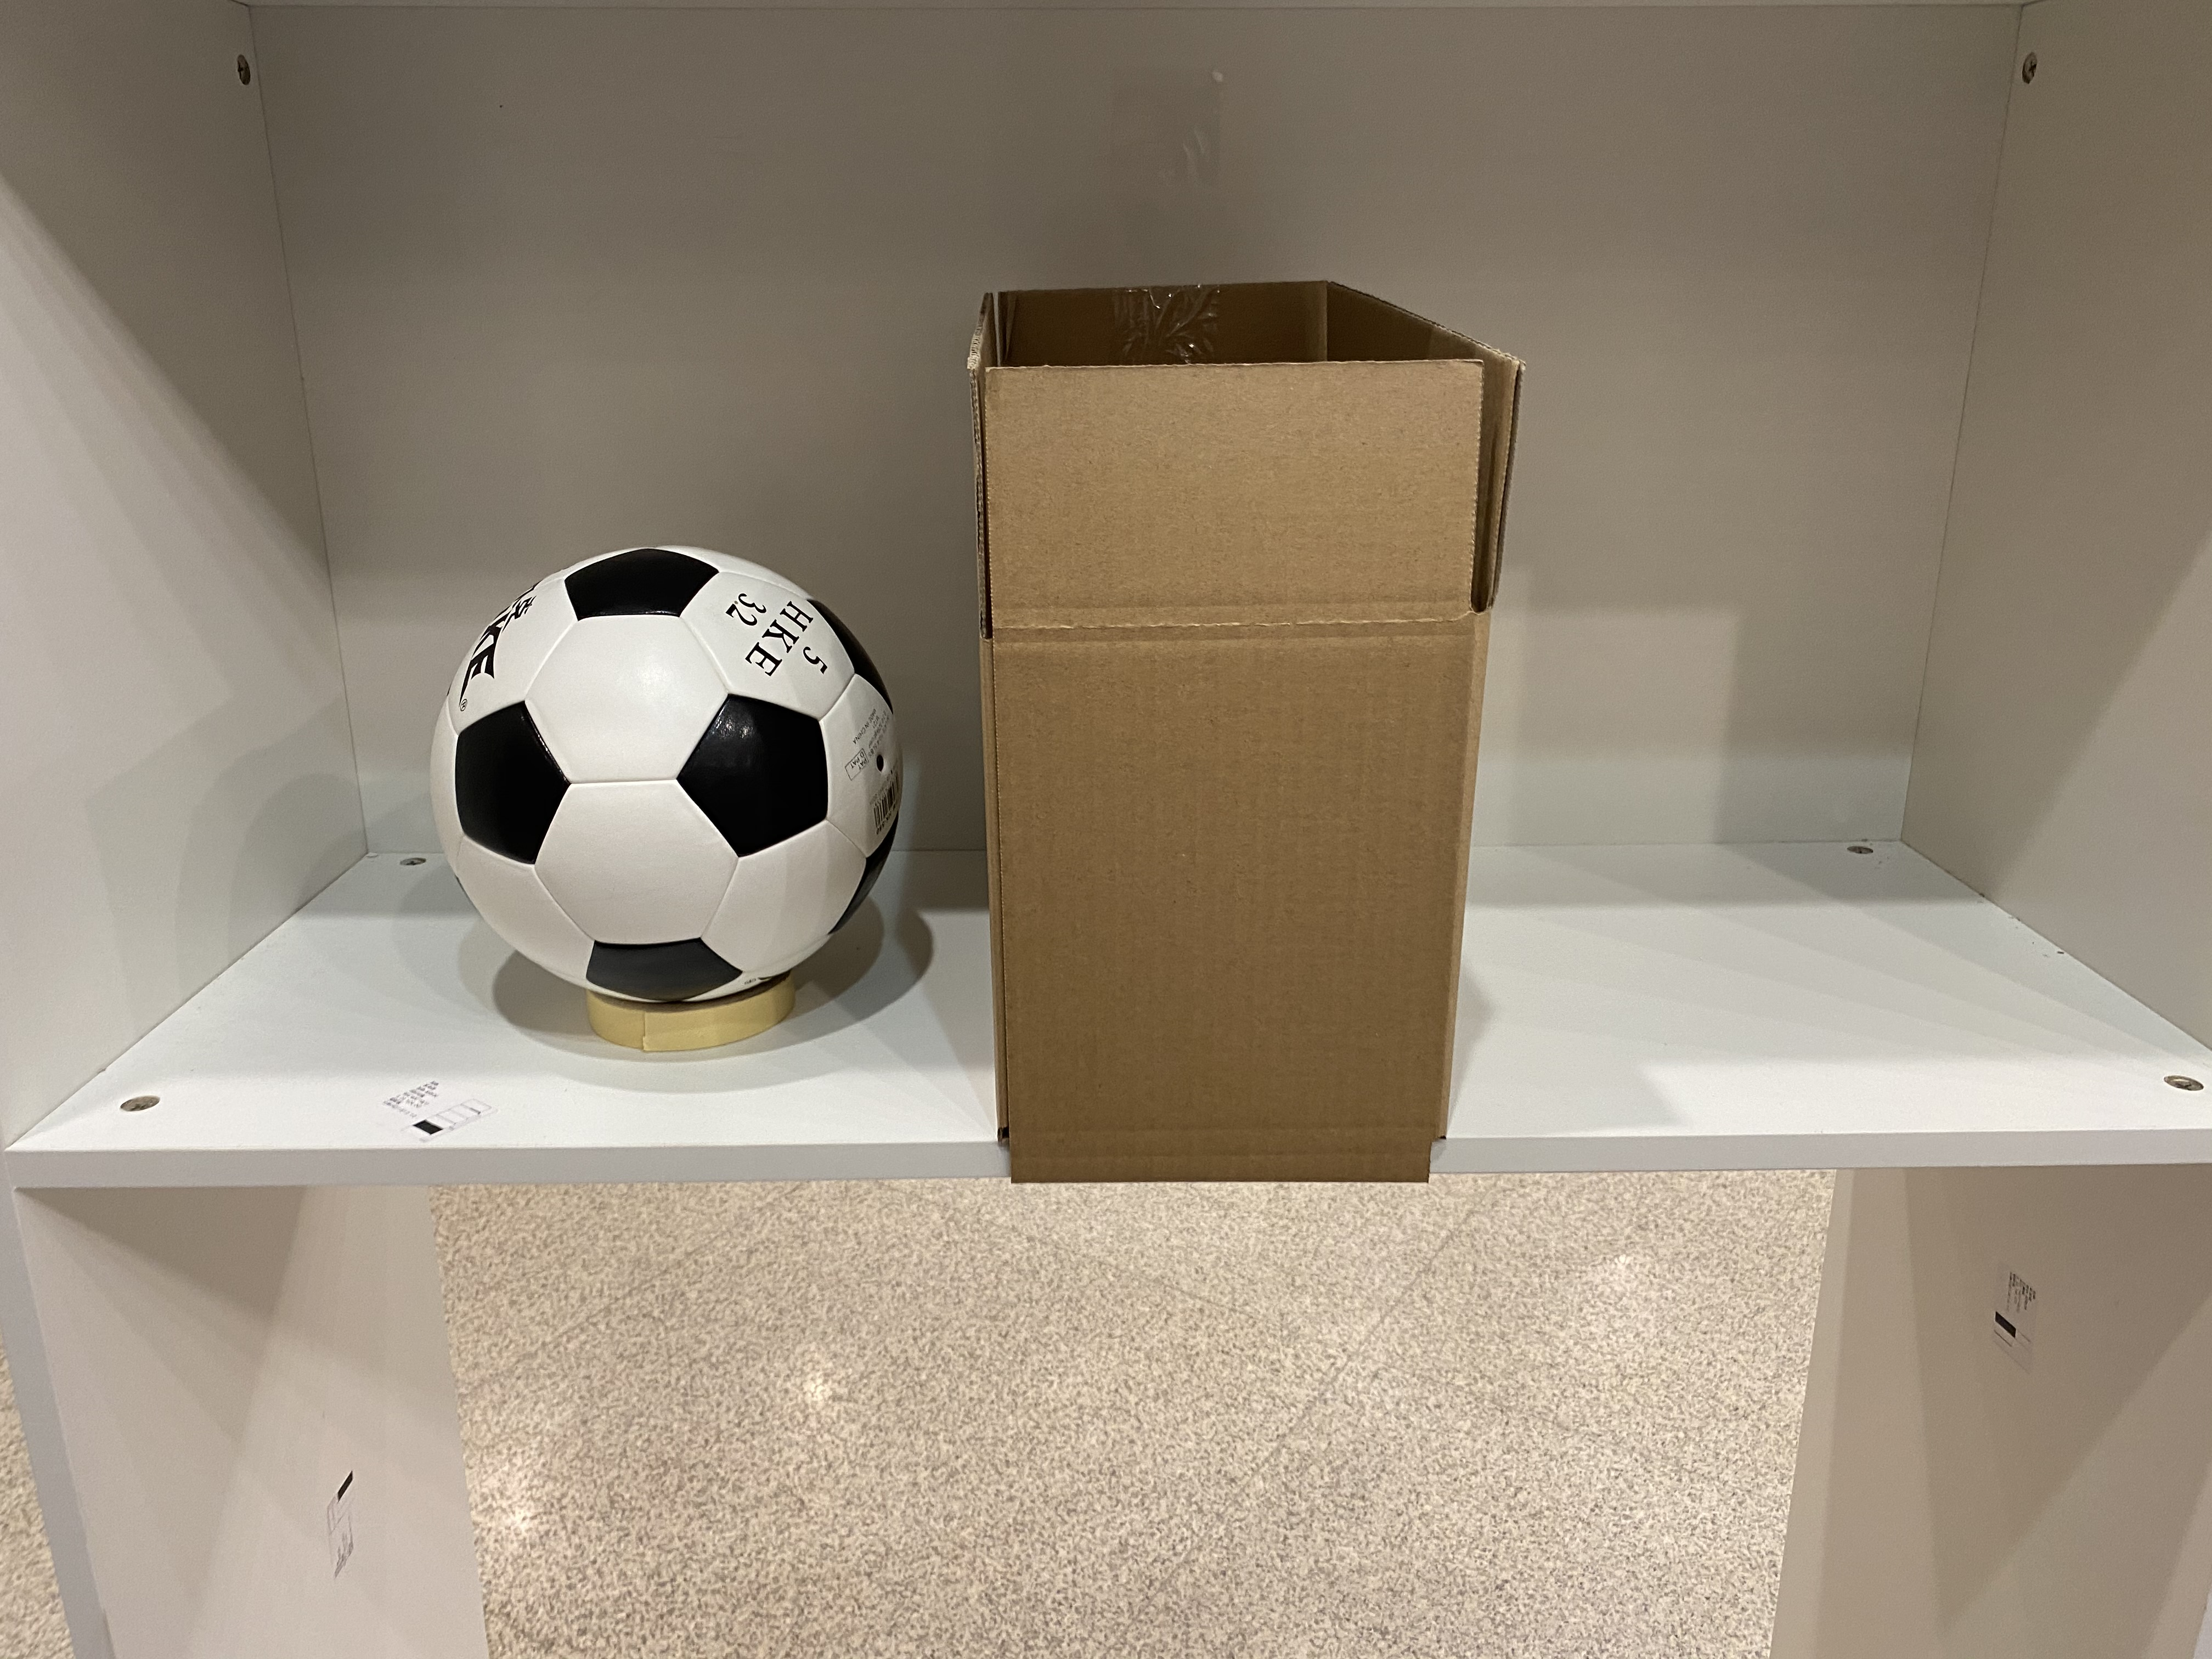football: (428, 547, 904, 981)
